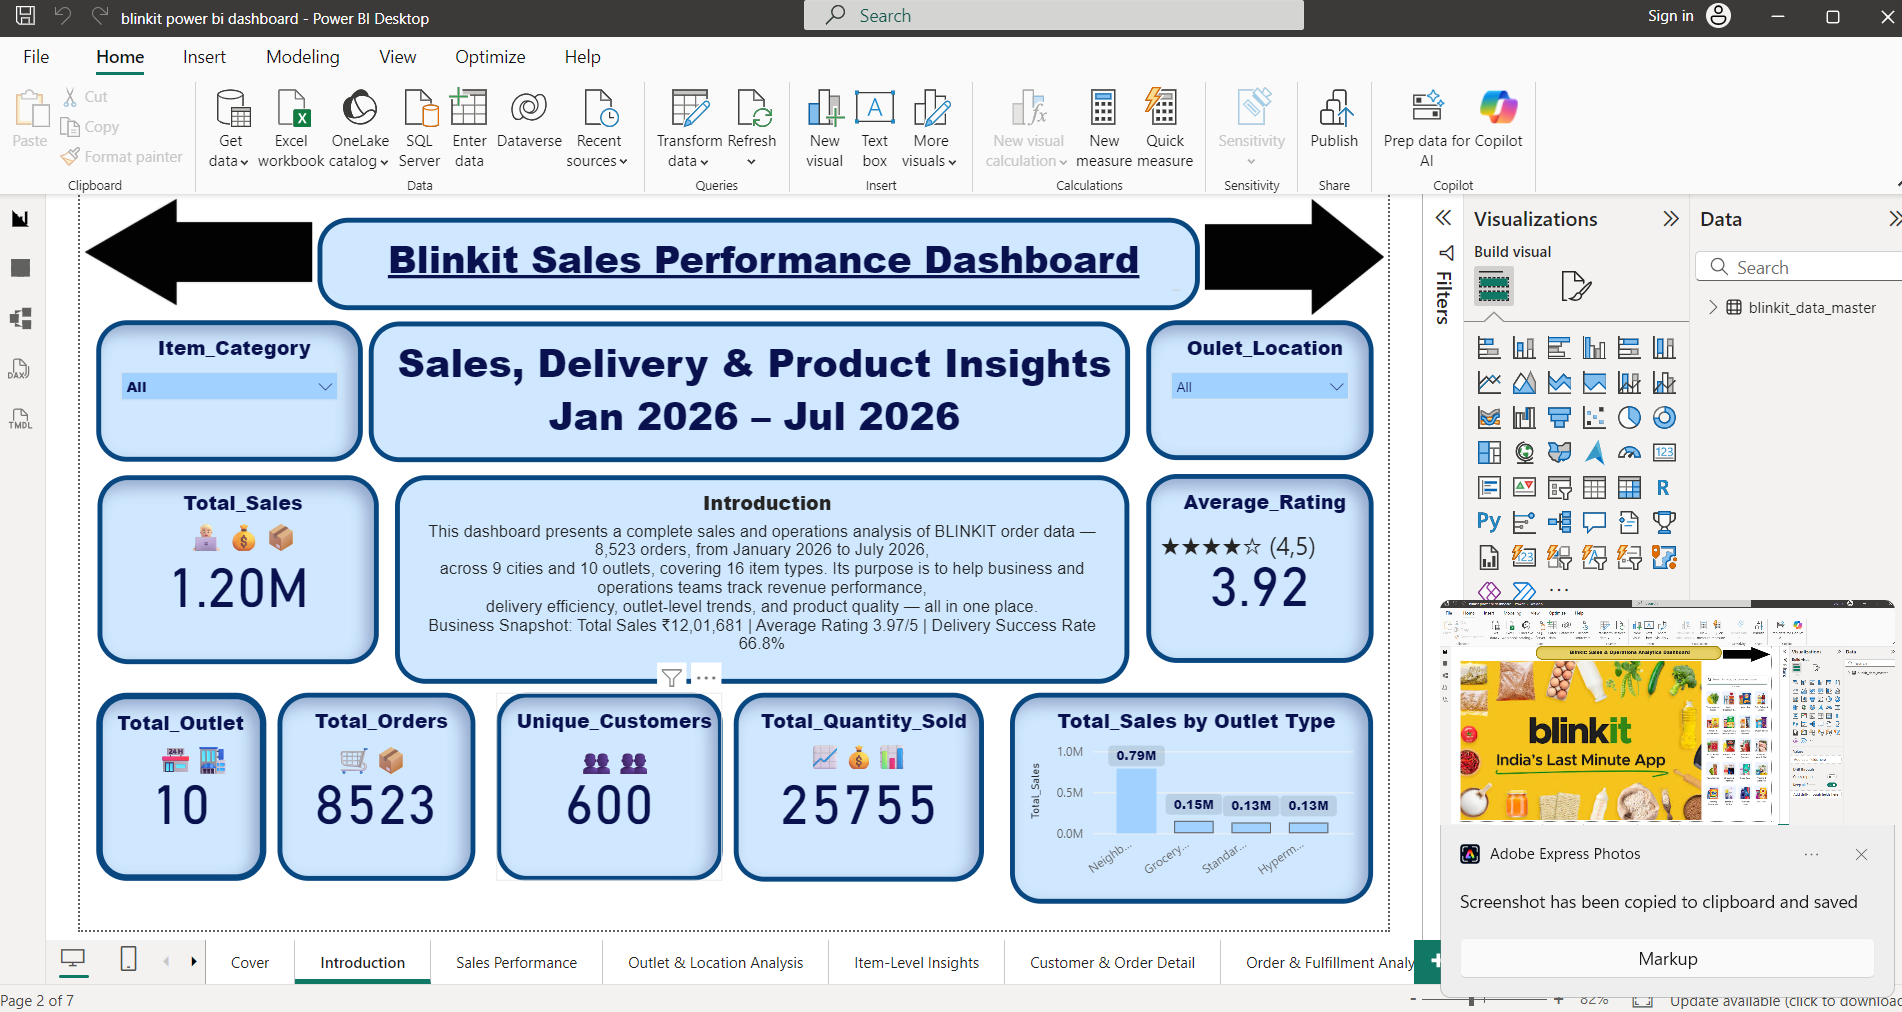

What the dashboard file says about the page in this screenshot:
{"tool":"powerbi","page":{"name":"Introduction","canvas":[1280,720],"ordinal":1},"visuals":[{"type":"textbox","title":"Blinkit Sales Performance Dashboard","box":[232.3,23.2,863.3,90.5],"z":0},{"type":"textbox","title":"Sales, Delivery & Product Insights   Jan 2026 – Jul 2026","box":[282.5,125,745,137.5],"z":1000},{"type":"textbox","title":"Introduction","box":[308.8,275,718.8,203.8],"z":2000},{"type":"cardVisual","title":"Total_Sales","fields":{"Data":["blinkit_data_master.Total_Sales"]},"box":[16.7,275,275,184.5],"z":3000},{"type":"cardVisual","title":"Average_Rating","fields":{"Data":["blinkit_data_master.Average_Rating"]},"box":[1043.1,273.9,222.6,184.6],"z":4000},{"type":"cardVisual","title":"Total_Outlet","fields":{"Data":["blinkit_data_master.Outlet_count"]},"box":[16.2,487.5,166.2,183.8],"z":5000},{"type":"slicer","title":"Oulet_Location","fields":{"Values":["blinkit_data_master.Outlet Location Type","blinkit_data_master.City","blinkit_data_master.Item Category"]},"box":[1043.1,123.5,222.6,137],"z":6000},{"type":"slicer","title":"Item_Category","fields":{"Values":["blinkit_data_master.Item Category"]},"box":[15.9,123.5,260.5,138.2],"z":7000},{"type":"cardVisual","title":"Total_Orders","fields":{"Data":["blinkit_data_master.Toatl_order"]},"box":[193.8,487.5,193.8,183.8],"z":8000},{"type":"cardVisual","title":"Unique_Customers","fields":{"Data":["blinkit_data_master.Unique_Customer"]},"box":[407.5,487.5,221.2,183.8],"z":9000},{"type":"cardVisual","title":"Total_Quantity_Sold","fields":{"Data":["blinkit_data_master.Total_Quantity"]},"box":[640,487.5,245,185],"z":10000},{"type":"clusteredColumnChart","fields":{"Category":["blinkit_data_master.Outlet Type"],"Y":["blinkit_data_master.Total_Sales"]},"box":[910,487.5,355,206.2],"z":11000},{"type":"textbox","box":[100.3,311.8,192,47.7],"z":12000},{"type":"textbox","box":[1051.6,322.8,201.8,45.2],"z":13000},{"type":"textbox","box":[41.6,529.5,140.6,112.5],"z":14000},{"type":"textbox","box":[172.4,529.5,227.4,50.1],"z":15000},{"type":"textbox","box":[419.4,529.5,209.1,50.1],"z":16000},{"type":"textbox","box":[639.5,529.5,244.6,50.1],"z":17000},{"type":"image","box":[0,0,232.3,113.7],"z":17001},{"type":"image","box":[1095.7,0,184.6,123.5],"z":17002}]}

Visuals, with their boxes on the page's 1280x720 design canvas (x1, y1, x2, y2). These are canvas units, not pixel positions in the 1902x1012 screenshot, which may show the page scaled, cropped or inside an application window:
"Blinkit Sales Performance Dashboard" textbox: 232/23/1096/114
"Sales, Delivery & Product Insights   Jan 2026 – Jul 2026" textbox: 282/125/1028/262
"Introduction" textbox: 309/275/1028/479
"Total_Sales" cardVisual: 17/275/292/460
"Average_Rating" cardVisual: 1043/274/1266/458
"Total_Outlet" cardVisual: 16/488/182/671
"Oulet_Location" slicer: 1043/124/1266/260
"Item_Category" slicer: 16/124/276/262
"Total_Orders" cardVisual: 194/488/388/671
"Unique_Customers" cardVisual: 408/488/629/671
"Total_Quantity_Sold" cardVisual: 640/488/885/672
clusteredColumnChart - blinkit_data_master.Outlet Type x blinkit_data_master.Total_Sales: 910/488/1265/694
textbox: 100/312/292/360
textbox: 1052/323/1253/368
textbox: 42/530/182/642
textbox: 172/530/400/580
textbox: 419/530/628/580
textbox: 640/530/884/580
image: 0/0/232/114
image: 1096/0/1280/124
